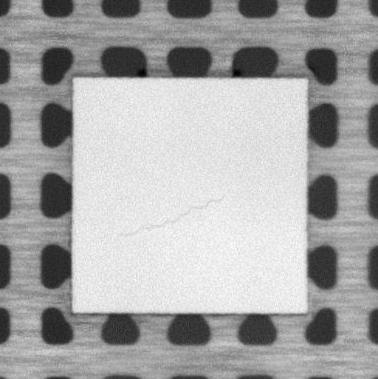DIE_CRACK: (121, 194, 226, 237)
